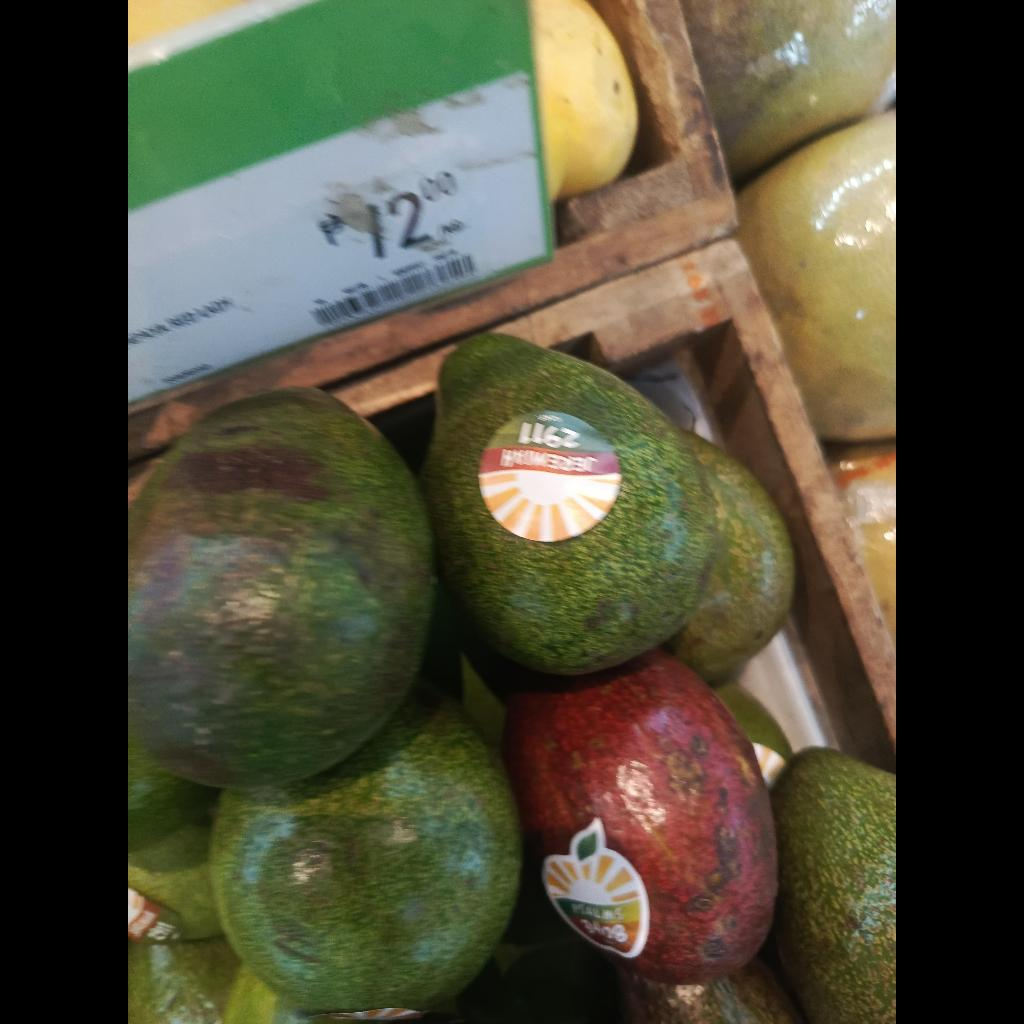antracnosis_fruto: (504, 649, 777, 993)
